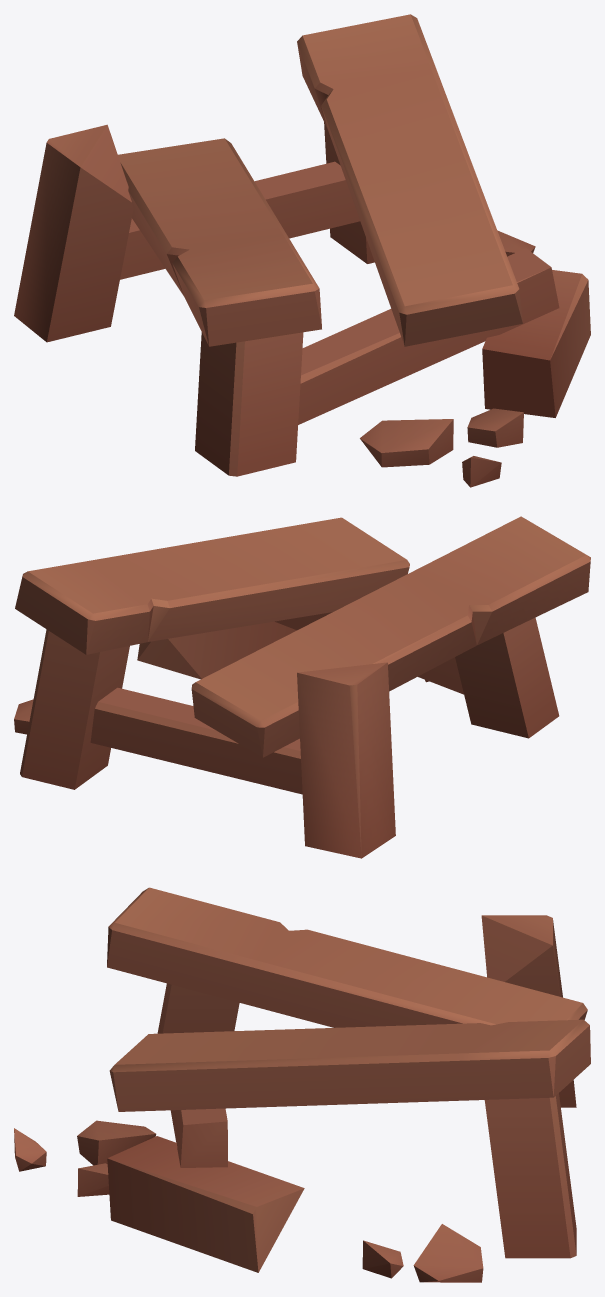
The model's file is table_medium_broken.gltf.
3 views of the same model, one above another, from view 1: azimuth 30°, elevation 25°; view 2: azimuth 150°, elevation 25°; view 3: azimuth 270°, elevation 25° (orthographic). The views are drawn at different scales.
Parts seen in each view (by area): view 1: table_medium_broken; view 2: table_medium_broken; view 3: table_medium_broken.
Boxes of the visible parts, x1=… form: table_medium_broken: x1=14, y1=14, x2=590, y2=487; table_medium_broken: x1=14, y1=516, x2=590, y2=858; table_medium_broken: x1=14, y1=887, x2=590, y2=1282.
Size of the model in its own units: 2.28 by 0.9718 by 2.43.
Materials: 1 (1 with a texture image).
